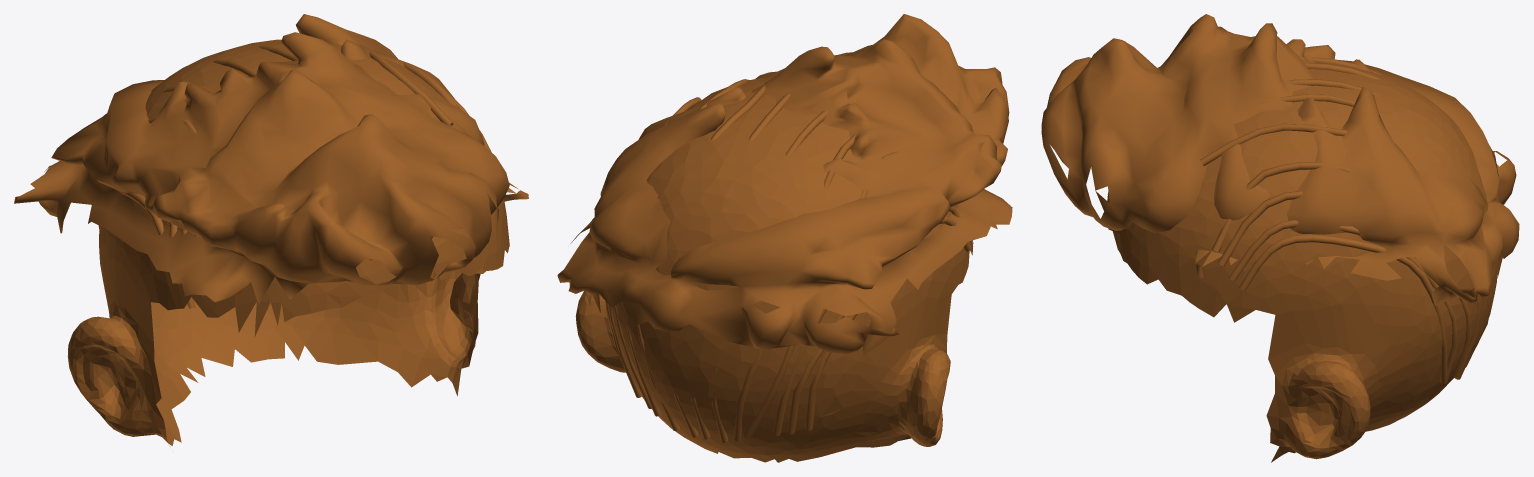
File: quiff.glb
The picture shows the model from 3 angles, left to right: view 1: azimuth 30°, elevation 25°; view 2: azimuth 150°, elevation 25°; view 3: azimuth 270°, elevation 25°; orthographic projection. The views are drawn at different scales.
Parts seen in each view (by area): view 1: Hair, HairScalp, HairPulledRootStrands; view 2: Hair, HairScalp, HairPulledRootStrands; view 3: Hair, HairScalp, HairPulledRootStrands.
Boxes of the visible parts, bbox=[...] form: Hair: bbox=[14, 14, 528, 304]; HairScalp: bbox=[67, 39, 509, 445]; HairPulledRootStrands: bbox=[98, 45, 491, 308]; Hair: bbox=[557, 14, 1012, 355]; HairScalp: bbox=[575, 80, 973, 462]; HairPulledRootStrands: bbox=[605, 79, 971, 442]; Hair: bbox=[1041, 14, 1519, 305]; HairScalp: bbox=[1107, 62, 1497, 462]; HairPulledRootStrands: bbox=[1200, 57, 1488, 383].
Size of the model in its own units: 0.4779 by 0.4566 by 0.5355.
